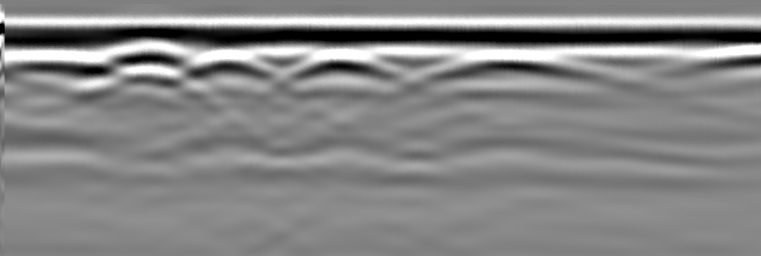pipe: (107, 26, 194, 62)
steel: (435, 49, 599, 81), (290, 47, 397, 79), (187, 47, 272, 79)
